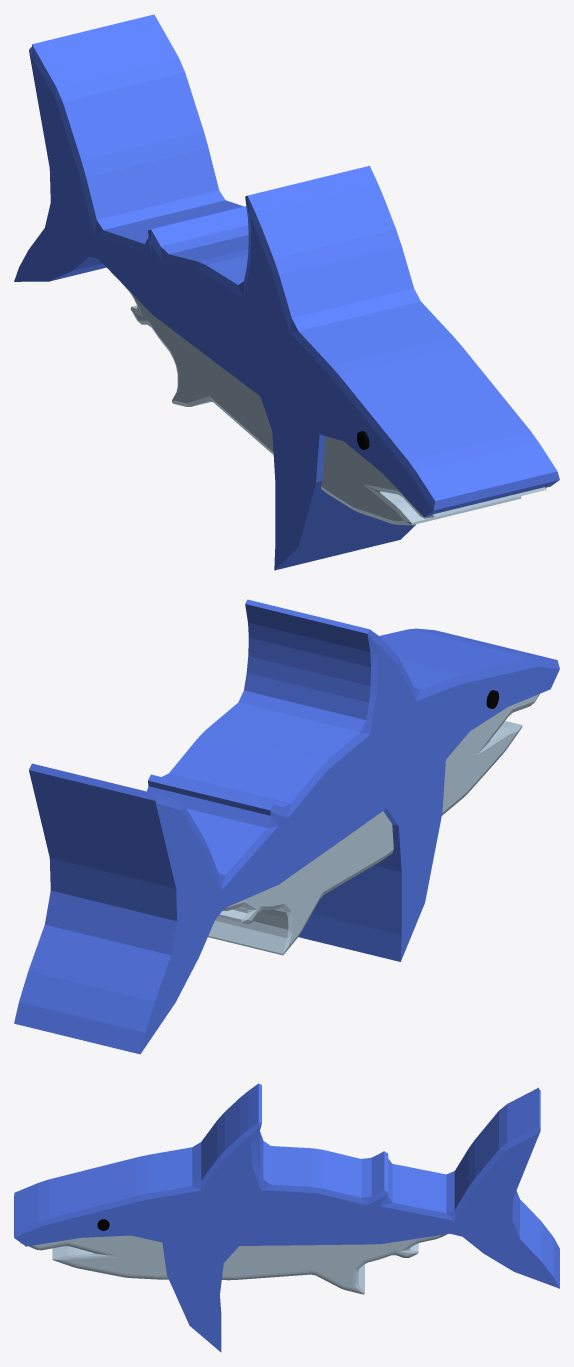
File: shark.fbx
3 renders of one model, top to bottom at view 1: azimuth 30°, elevation 25°; view 2: azimuth 150°, elevation 25°; view 3: azimuth 270°, elevation 25°, orthographic. The views are drawn at different scales.
Visible parts, largest first — view 1: Plane, Plane.001; view 2: Plane, Plane.001; view 3: Plane, Plane.001.
Part boxes in pixels (left/top/right/bottom): Plane: left=14, top=14, right=559, bottom=570; Plane.001: left=124, top=286, right=546, bottom=525; Plane: left=14, top=599, right=559, bottom=1054; Plane.001: left=208, top=694, right=539, bottom=955; Plane: left=14, top=1083, right=559, bottom=1352; Plane.001: left=20, top=1234, right=446, bottom=1294.
Size of the model in its own units: 83.88 by 215 by 462.
